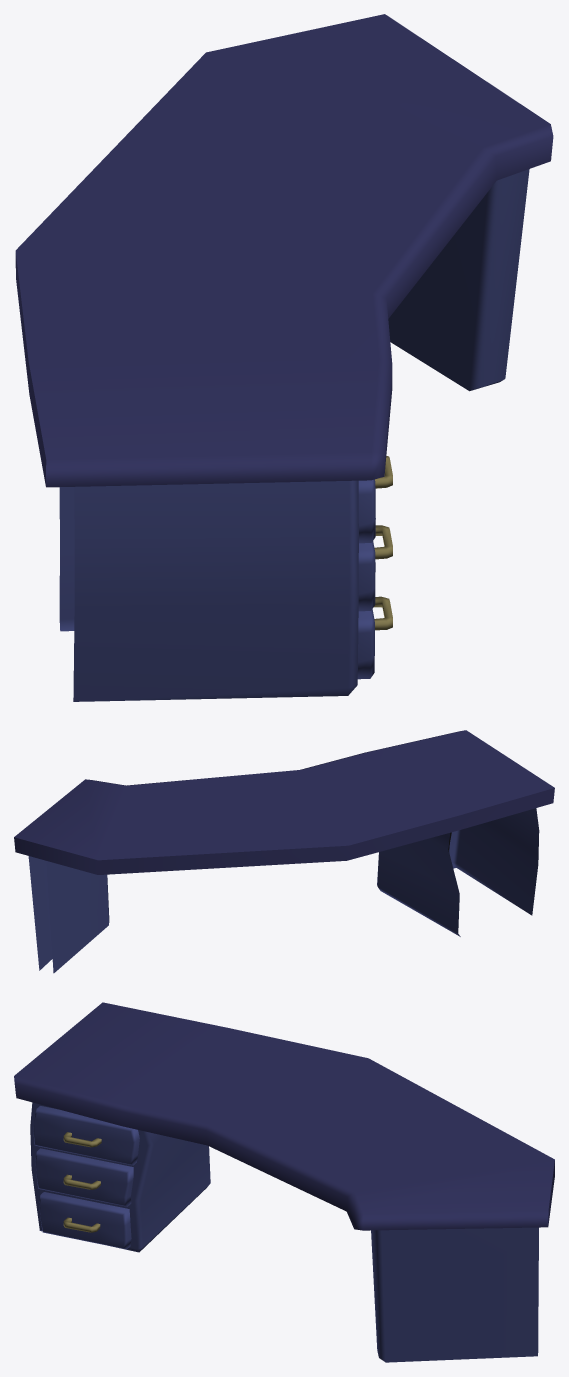
File: TherapyServiceTable.fbx
3 views of the same model, one above another, from view 1: azimuth 30°, elevation 25°; view 2: azimuth 150°, elevation 25°; view 3: azimuth 270°, elevation 25° (orthographic). The views are drawn at different scales.
Visible parts, largest first — view 1: polySurface10; view 2: polySurface10; view 3: polySurface10.
Part boxes in pixels (left/top/right/bottom): polySurface10: left=15, top=14, right=553, bottom=701; polySurface10: left=14, top=730, right=554, bottom=973; polySurface10: left=14, top=1002, right=554, bottom=1362.
Bounding box in the file's own units: 727 × 254 × 786.
